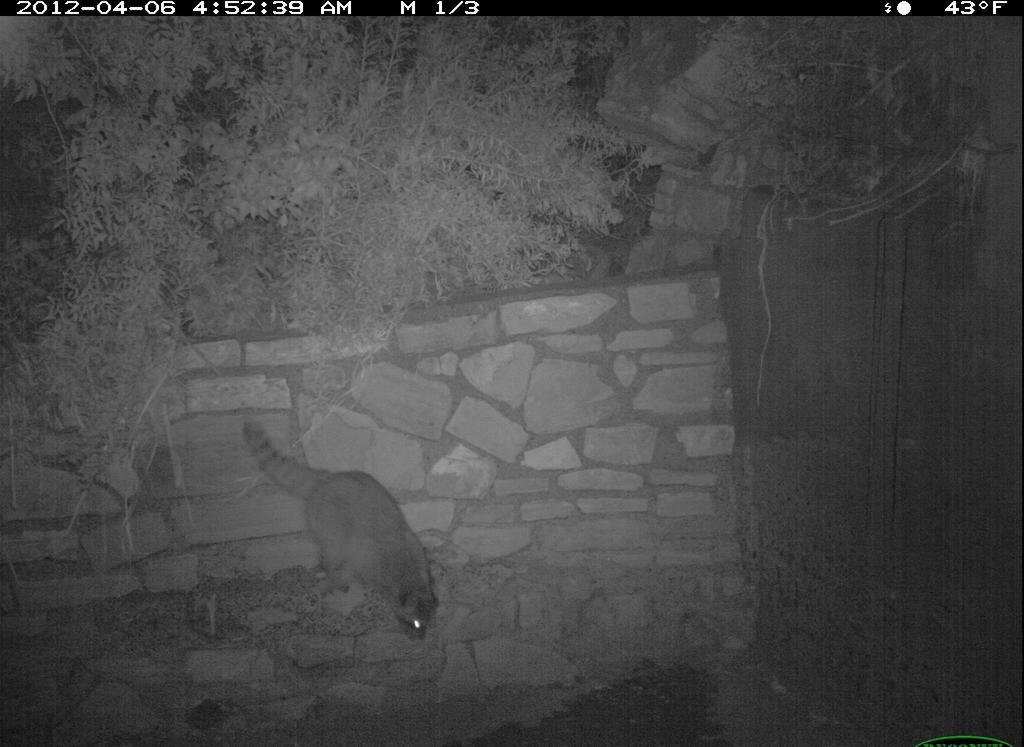raccoon: (223, 402, 473, 656)
